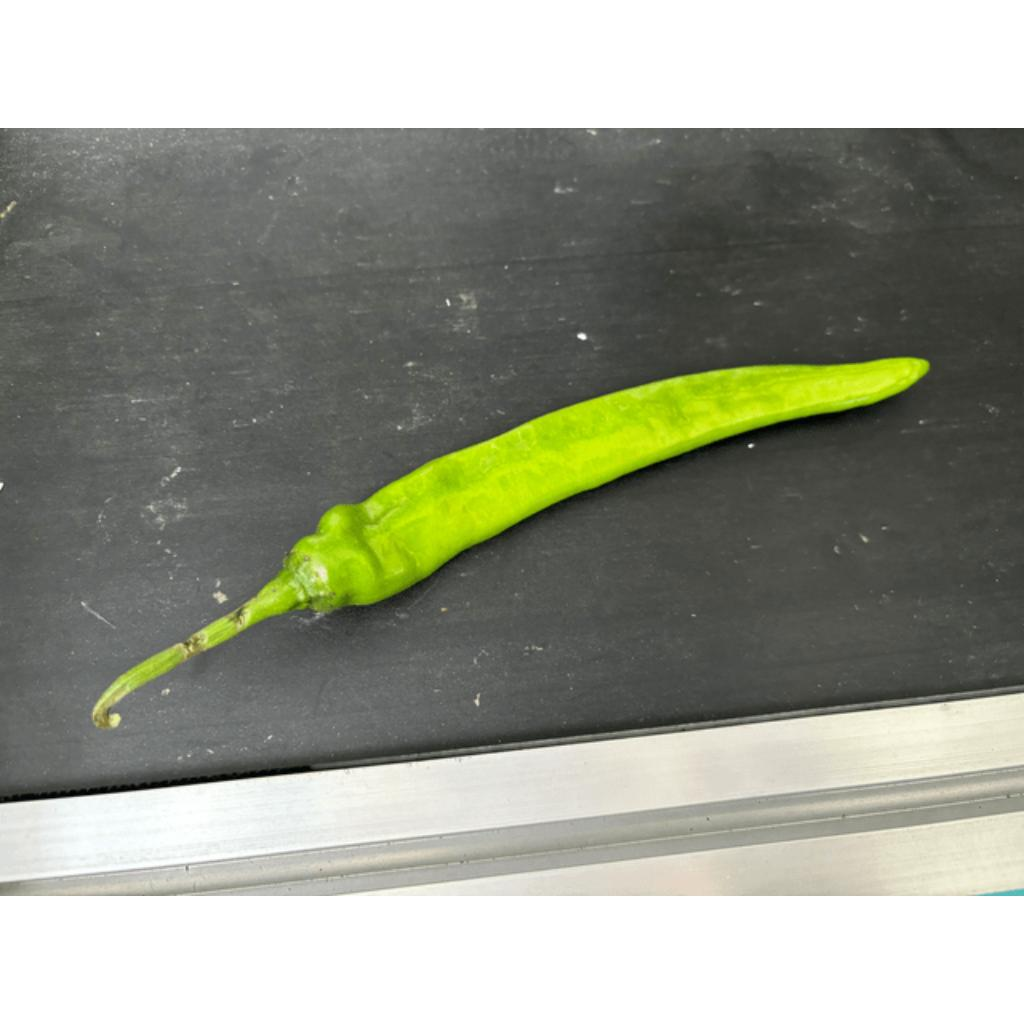chili: (280, 356, 938, 614)
